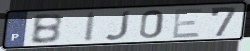0: (137, 8, 166, 40)
7: (209, 6, 239, 38)
B: (29, 12, 64, 45)
E: (170, 7, 204, 39)
I: (83, 10, 99, 43)
J: (102, 9, 132, 42)
